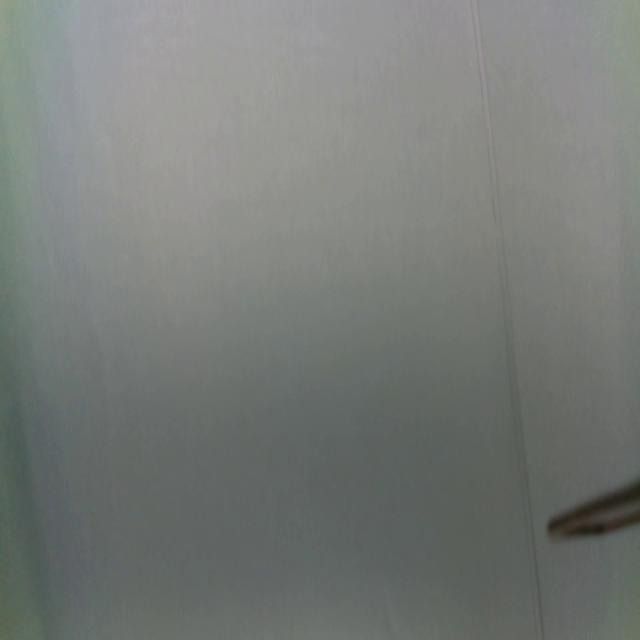crease: (471, 2, 544, 640)
